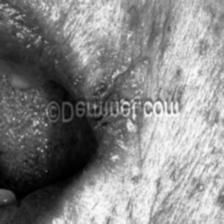Toxin: (94, 26, 140, 144)
